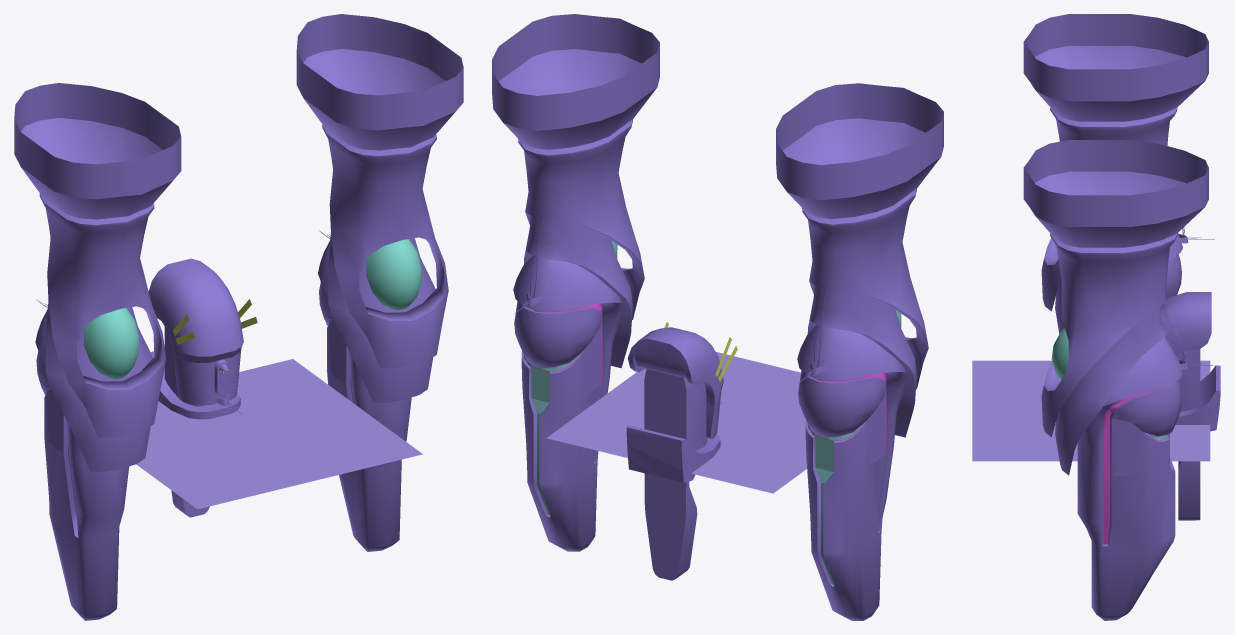
The model's file is gemini.fbx.
3 renders of one model, left to right at view 1: azimuth 30°, elevation 25°; view 2: azimuth 150°, elevation 25°; view 3: azimuth 270°, elevation 25°, orthographic. The views are drawn at different scales.
Parts seen in each view (by area): view 1: towerbcap03, towerbcap02, cluster_18.001, towerb01, towerb02, towera_head, towerbegg02, towerbegg01, towera_cup, towera; view 2: towerbcap03, towerbcap02, towerb01, towerb02, cluster_18.001, towera, towera_head, towera_cup; view 3: towerbcap03, towerb02, towerbcap02, cluster_18.001, towera_head, towera, towera_cup, towerb01, towerbegg02.
Part boxes in pixels (x1,y1,x2,y2): towerbcap03: (296,14,463,368); towerbcap02: (14,83,181,437); cluster_18.001: (136,299,422,509); towerb01: (35,300,152,620); towerb02: (318,233,435,551); towera_head: (148,258,243,404); towerbegg02: (366,239,421,310); towerbegg01: (83,308,138,379); towera_cup: (150,351,240,419); towera: (164,326,209,517); towerbcap03: (492,14,659,319); towerbcap02: (776,83,943,389); towerb01: (797,285,916,620); towerb02: (513,216,632,551); cluster_18.001: (547,322,806,493); towera: (644,369,707,580); towera_head: (628,327,723,439); towera_cup: (626,425,720,482); towerbcap03: (1023,140,1208,436); towerb02: (1055,306,1183,620); towerbcap02: (1023,14,1208,311); cluster_18.001: (972,360,1210,461); towera_head: (1160,292,1211,355); towera: (1176,349,1200,520); towera_cup: (1175,365,1220,431); towerb01: (1055,233,1182,333); towerbegg02: (1051,327,1068,379).
Size of what is drawn, in the model's own units: 1.22e+07 by 1.42e+07 by 7088495.
